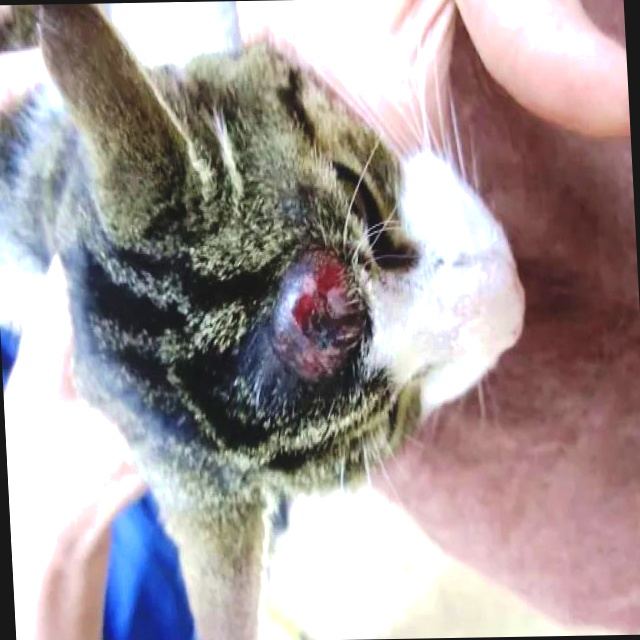lump_and_bump: (265, 243, 362, 397)
